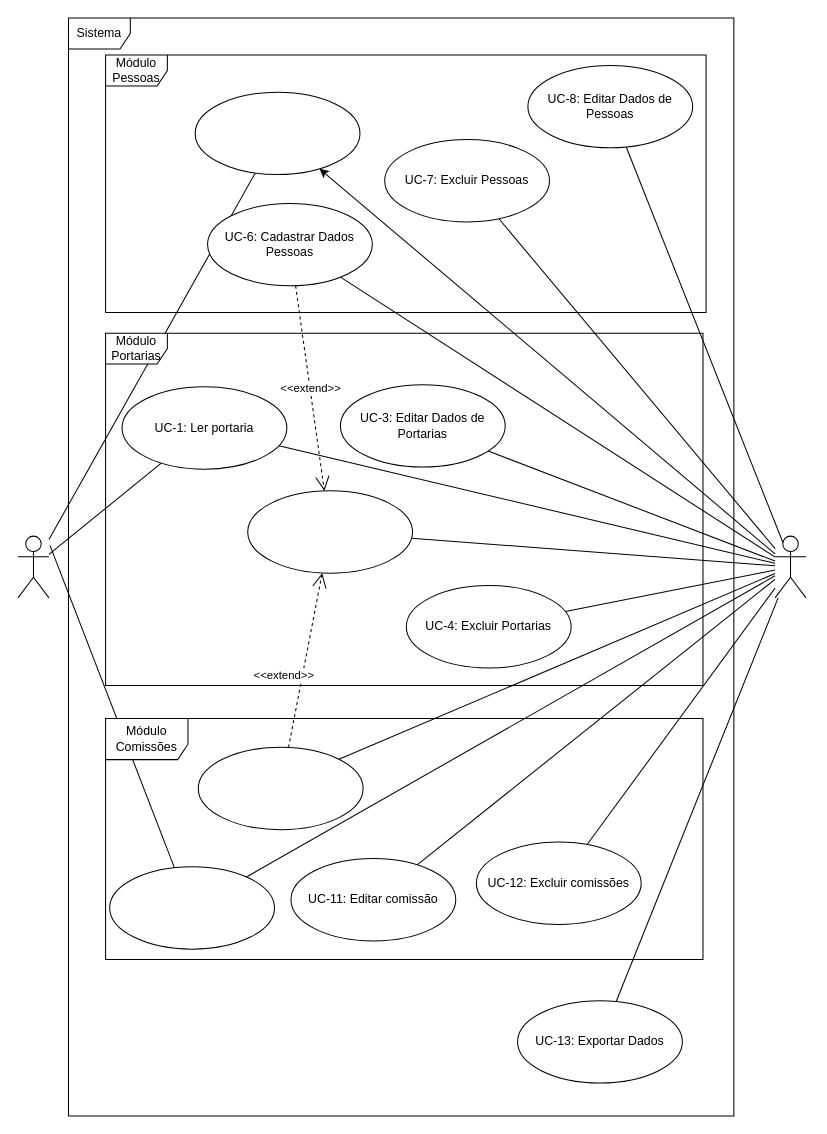
Some shapes in this 827 by 1134 pixel diagram are drawn without their labels. The centre of each missing label's shape, as x and y in pixels:
"Gestor" goes at (790,566).
"Leitor" goes at (33,566).
"UC-10: Cadastrar comissões" goes at (280,788).
"UC-2: Cadastrar portarias" goes at (330,531).
"UC-5: Ler pessoas" goes at (277,133).
"UC-9: Visualizar comissões" goes at (191,907).
